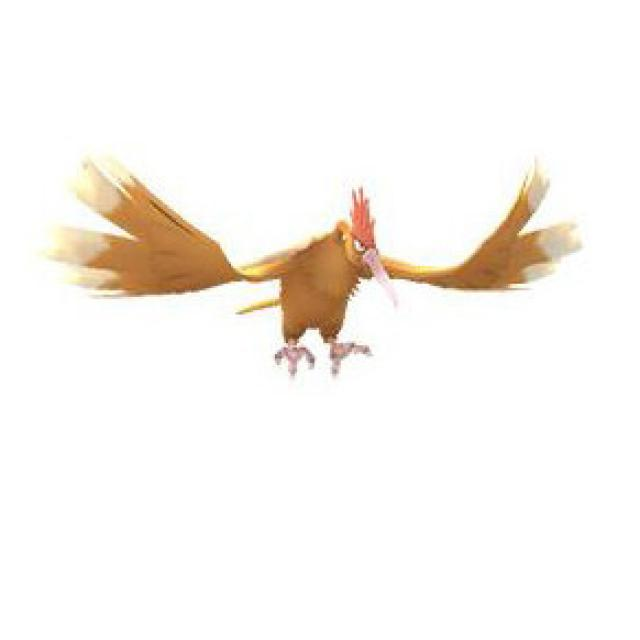Fearow: (67, 189, 562, 372)
